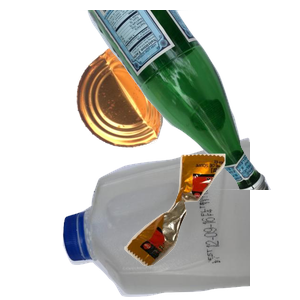glass: (75, 10, 300, 190)
metal: (74, 41, 229, 181)
plastic: (60, 135, 300, 300)
trash: (122, 151, 300, 300)
